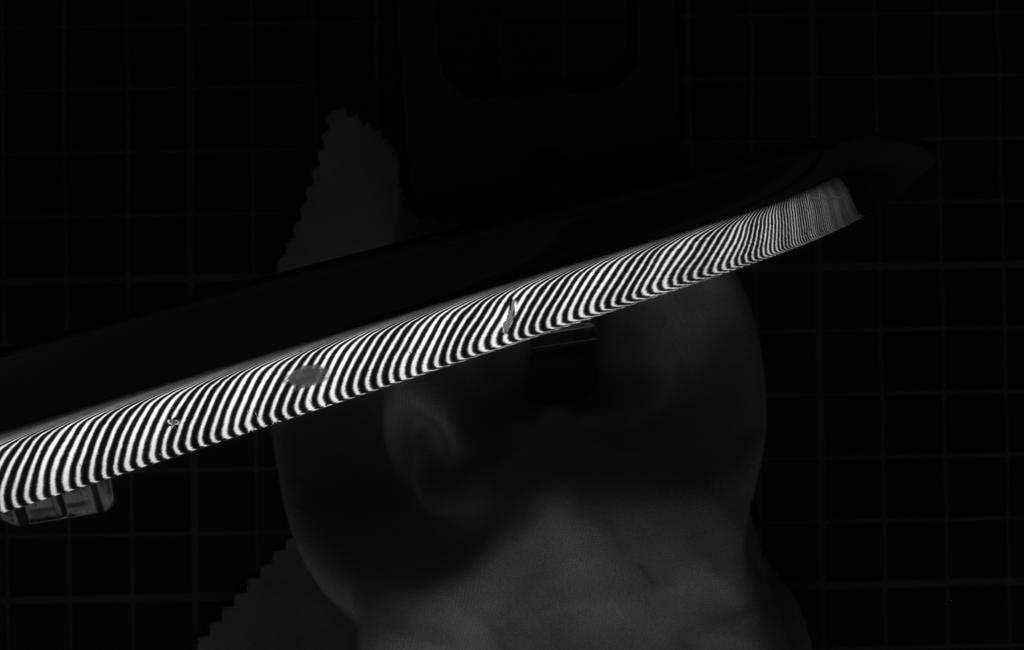Pierced: (161, 416, 186, 431)
Pitting: (281, 362, 330, 392)
Scratch: (496, 295, 525, 338)
